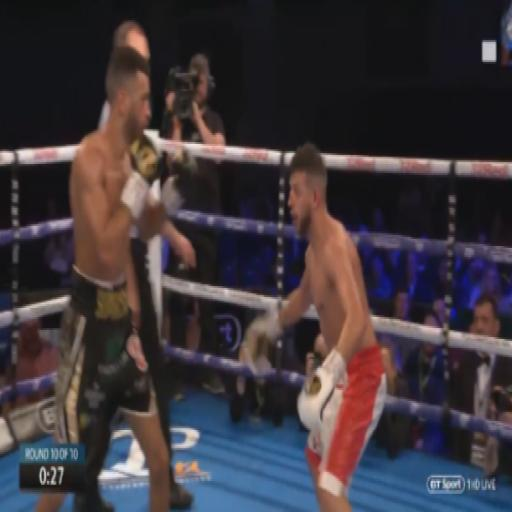boxing: (44, 42, 229, 512), (241, 140, 388, 510)
